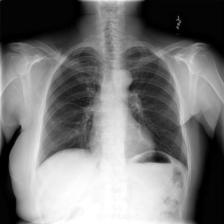normal: (34, 42, 194, 176)
